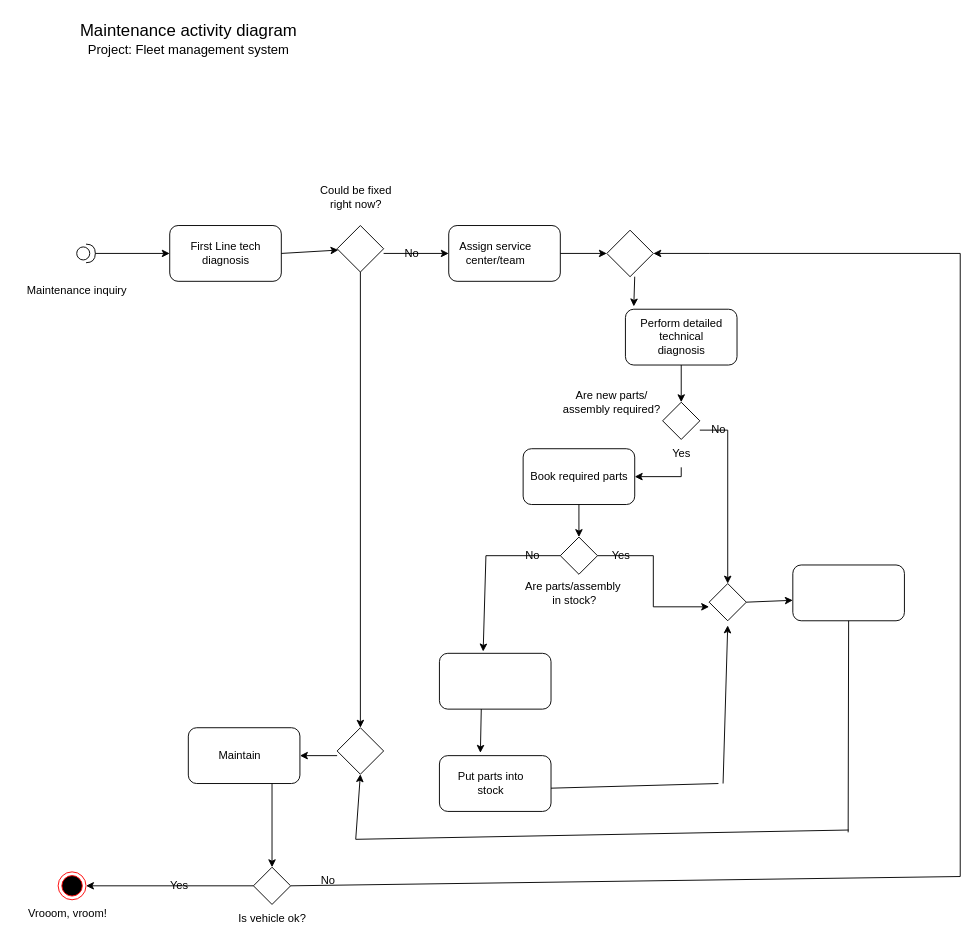
Some shapes in this 977 by 948 pixel diagram are drawn without their labels. Each missing label, with the centre of its shape:
"Book technical specialist" belongs at (x=848, y=592).
"Order parts from vendor" belongs at (x=494, y=680).
